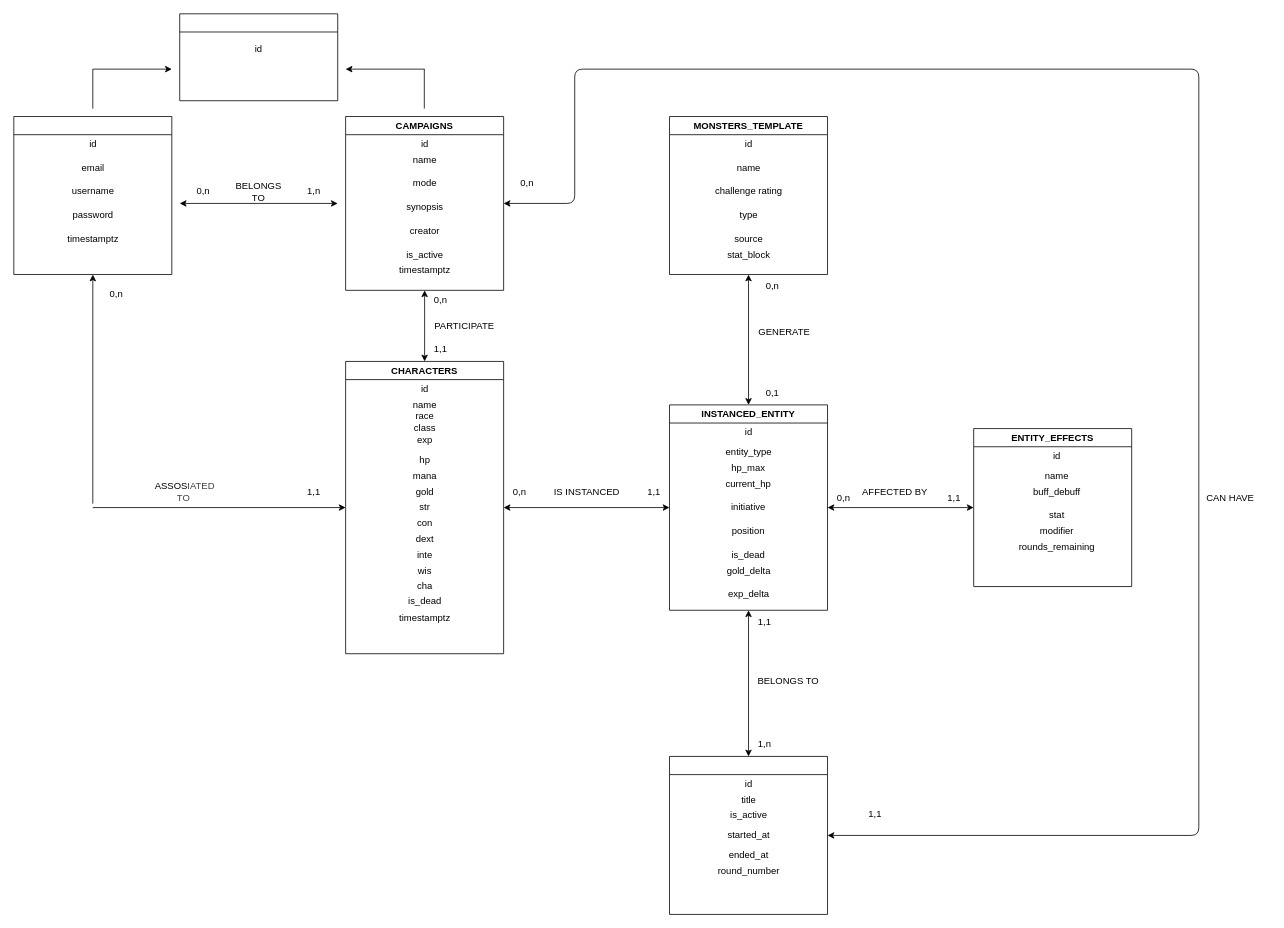
The diagram is 1284 pixels wide and 928 high, and some of its shapes have lost their labels. The box of each missing label's shape, as (x1, y1, x2, y2) in pixels:
CAMPAIGN_MEMBERS: (179, 13, 338, 101)
COMBAT_SESSIONS: (669, 756, 828, 914)
USERS: (13, 116, 172, 275)
